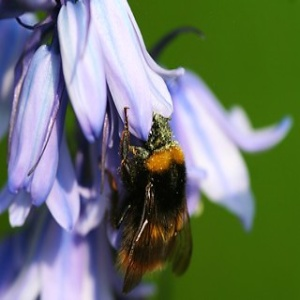bee: (122, 112, 192, 300)
